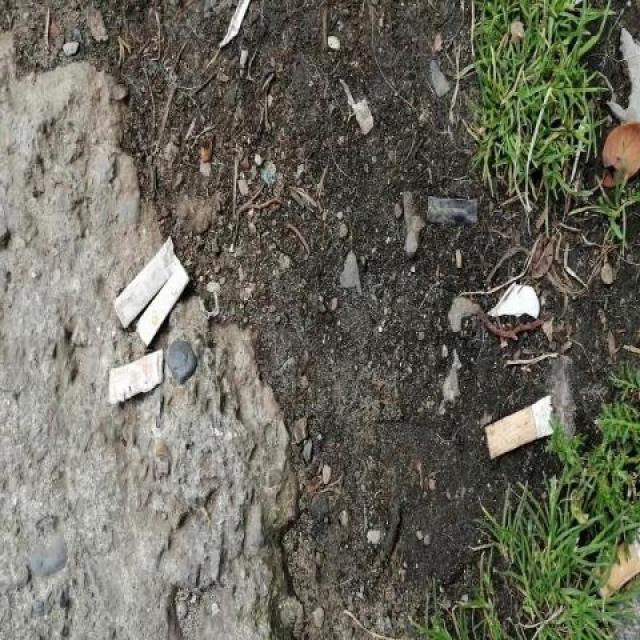non-organic waste: (112, 234, 175, 330), (481, 387, 555, 462), (132, 258, 189, 346), (589, 526, 640, 606), (106, 346, 166, 406)
